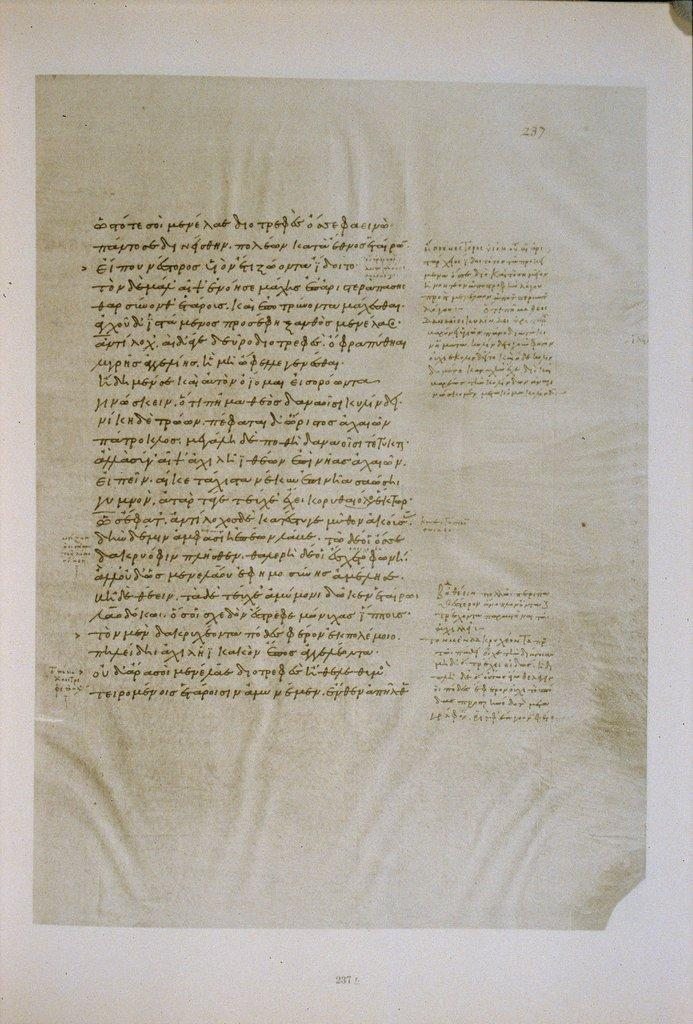book: (0, 16, 671, 972)
